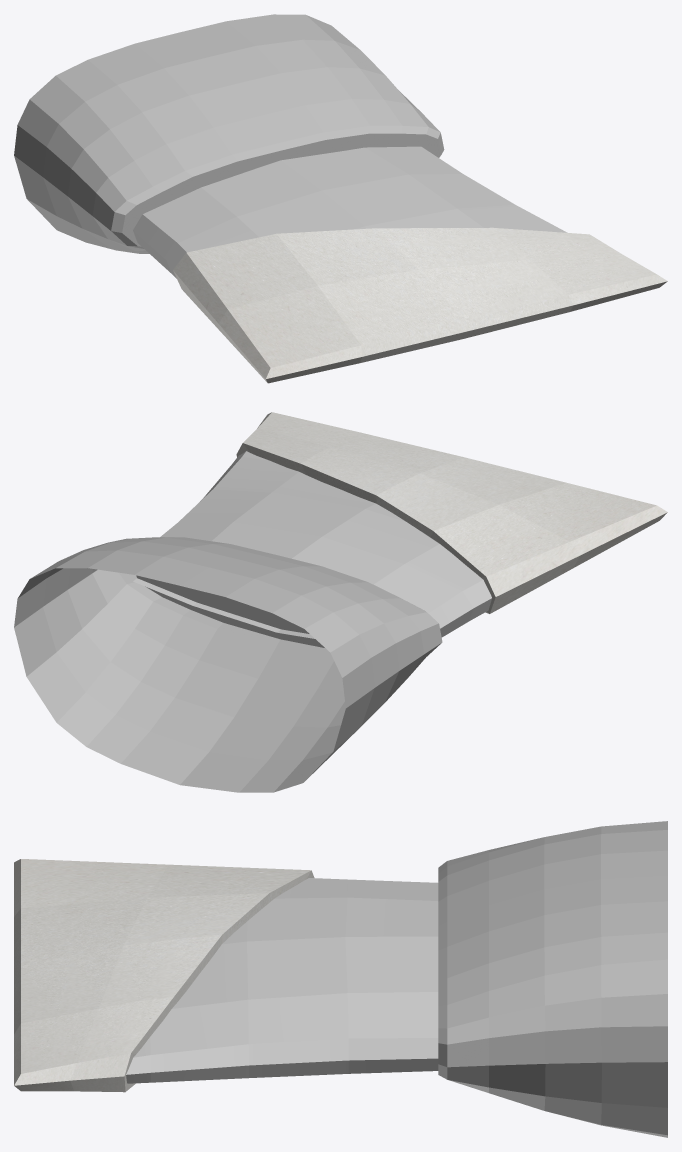
The model's file is blendShapeV003.fbx.
3 renders of one model, top to bottom at view 1: azimuth 30°, elevation 25°; view 2: azimuth 150°, elevation 25°; view 3: azimuth 270°, elevation 25°, orthographic. The views are drawn at different scales.
Visible parts, largest first — view 1: paintHead, colorPaint, brushHair; view 2: paintHead, colorPaint, brushHair; view 3: paintHead, brushHair, colorPaint.
Part boxes in pixels (box(x1,y1,x2,y2)): paintHead: box(14, 14, 444, 253); colorPaint: box(173, 227, 667, 383); brushHair: box(133, 146, 567, 278); paintHead: box(14, 537, 442, 792); colorPaint: box(236, 412, 667, 613); brushHair: box(130, 451, 491, 638); paintHead: box(438, 821, 667, 1137); brushHair: box(126, 878, 438, 1083); colorPaint: box(14, 859, 314, 1092).
Size of the model in its own units: 4.57 by 2.17 by 5.66.
